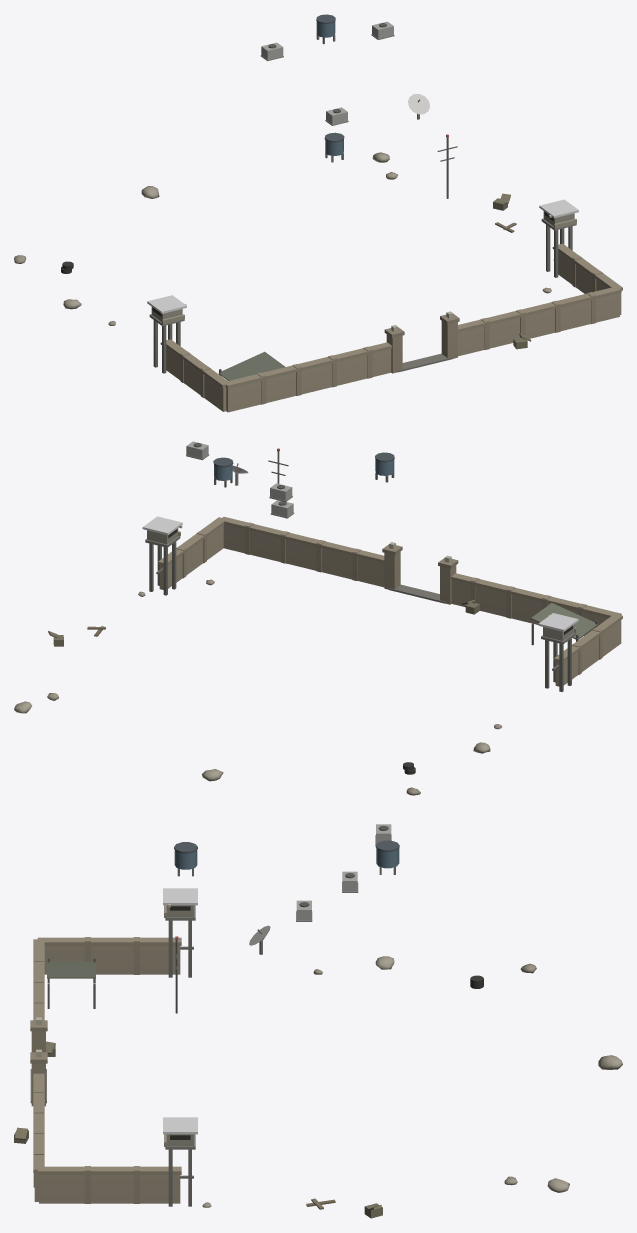
The picture shows the model from 3 angles, top to bottom: view 1: azimuth 30°, elevation 25°; view 2: azimuth 150°, elevation 25°; view 3: azimuth 270°, elevation 25°; orthographic projection. The views are drawn at different scales.
Visible parts, largest first — view 1: mesh; view 2: mesh; view 3: mesh.
Part boxes in pixels (box(x1,y1,x2,y2)): mesh: box(14, 14, 622, 412); mesh: box(14, 441, 622, 795); mesh: box(14, 824, 622, 1218).
Size of the model in its own units: 112 by 54.96 by 112.
